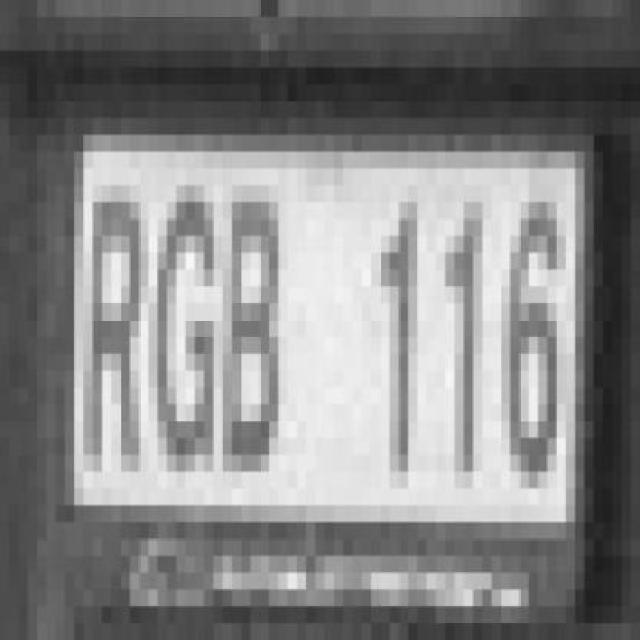licenseplate: (68, 76, 599, 544)
